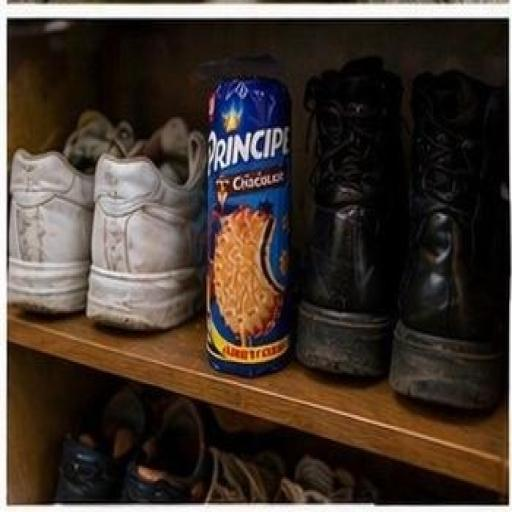prince: (166, 44, 350, 401)
